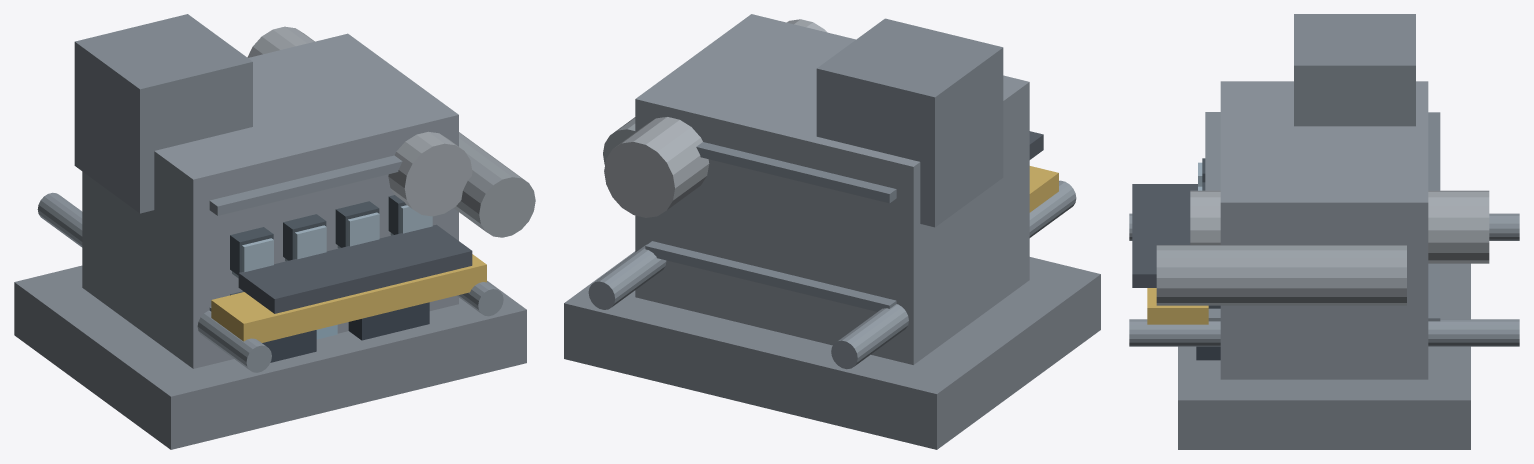
Rendered from utility_hub.glb.
The picture shows the model from 3 angles, left to right: view 1: azimuth 30°, elevation 25°; view 2: azimuth 150°, elevation 25°; view 3: azimuth 270°, elevation 25°; orthographic projection. The views are drawn at different scales.
Visible parts, largest first — view 1: world; view 2: world; view 3: world.
Part boxes in pixels (x1,y1,x2,y2): world: (14,14,535,449); world: (564,14,1100,449); world: (1129,14,1519,449).
Bounding box in the file's own units: 1.26 × 1.09 × 1.28.
